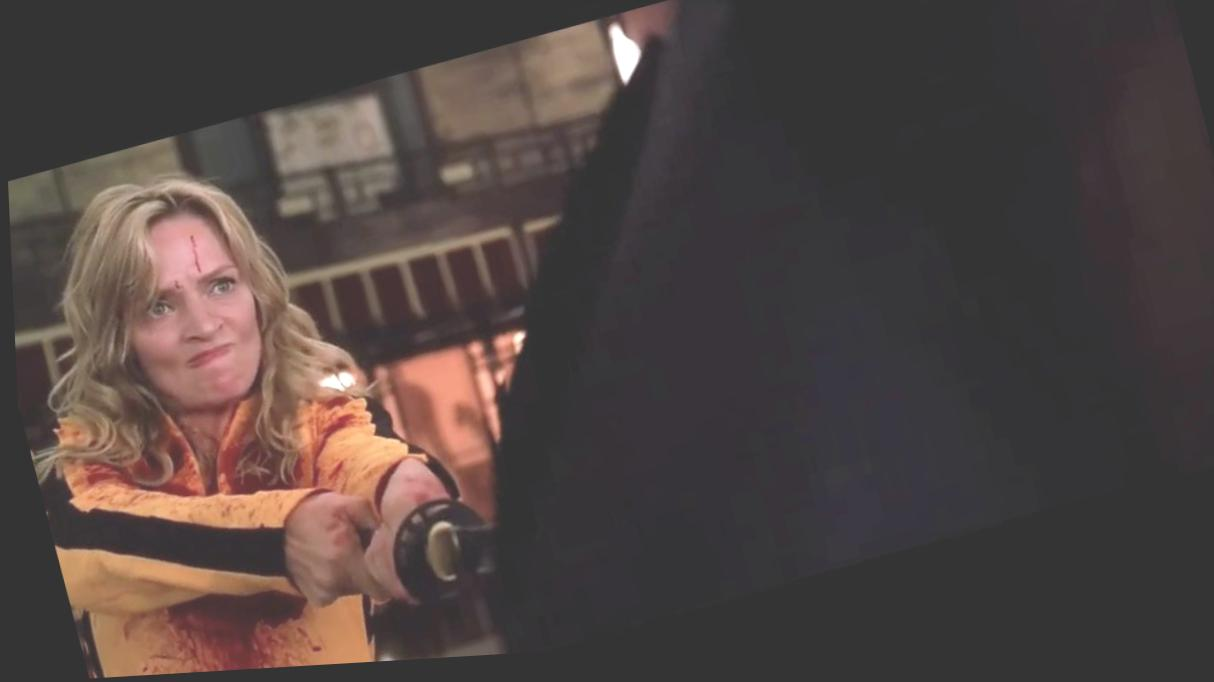Fire: (34, 392, 406, 581), (81, 594, 365, 679), (181, 237, 198, 273), (165, 279, 182, 307)
